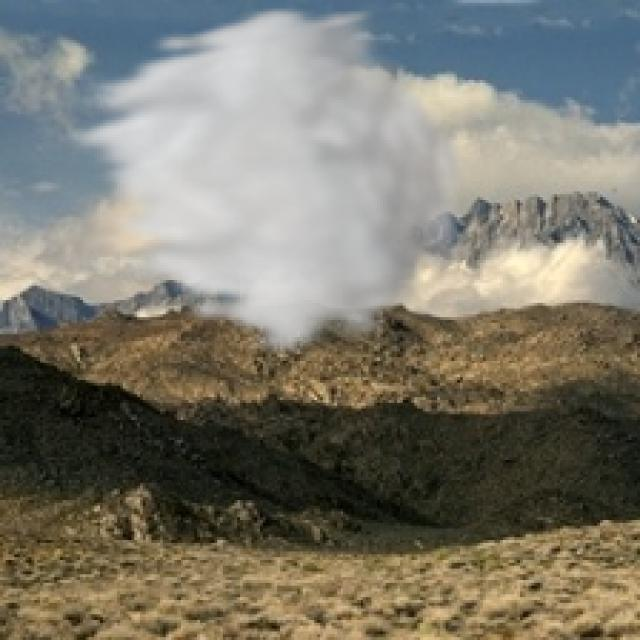smoke: (54, 3, 474, 360)
